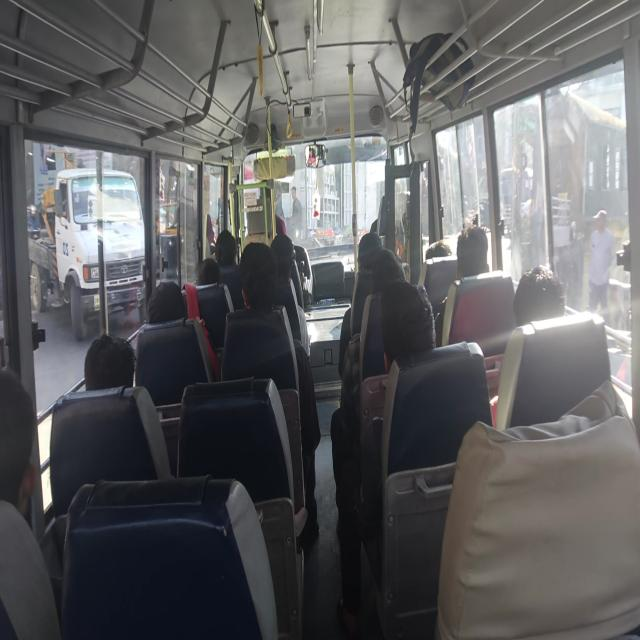person: (1, 356, 42, 530), (382, 274, 440, 362), (85, 331, 146, 407), (507, 256, 572, 324), (146, 277, 206, 341), (240, 238, 274, 312), (458, 221, 494, 281), (374, 249, 407, 293), (358, 230, 390, 275), (212, 230, 242, 274), (196, 248, 224, 289), (419, 232, 453, 262), (271, 233, 292, 280), (258, 178, 276, 222), (370, 197, 398, 225)
